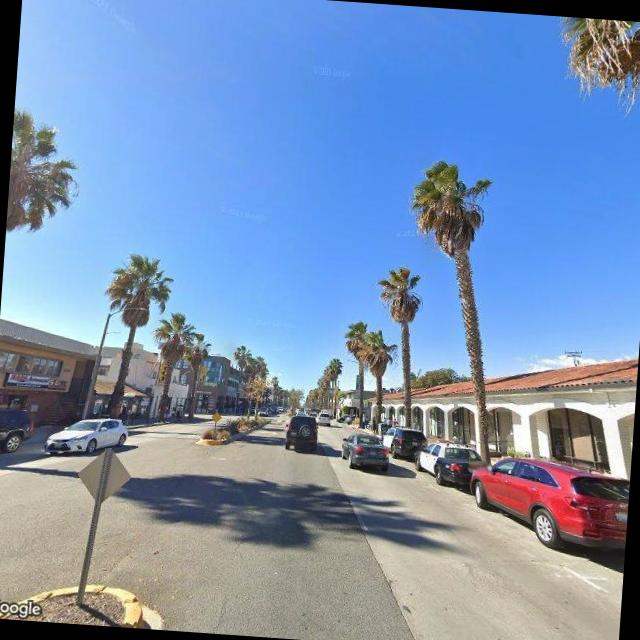pothole: (205, 588, 232, 632)
